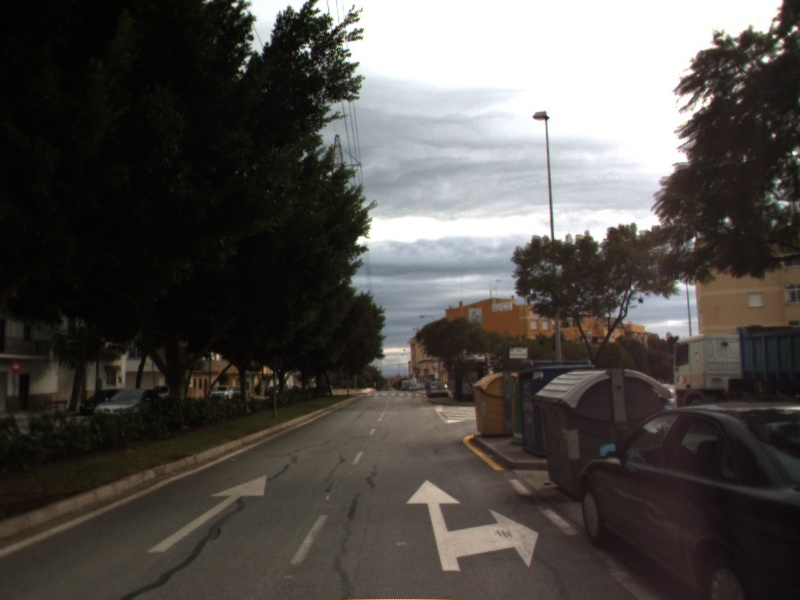STRAIGHT: (145, 473, 268, 554)
STRAIGHT_RIGHT: (404, 477, 540, 573)
